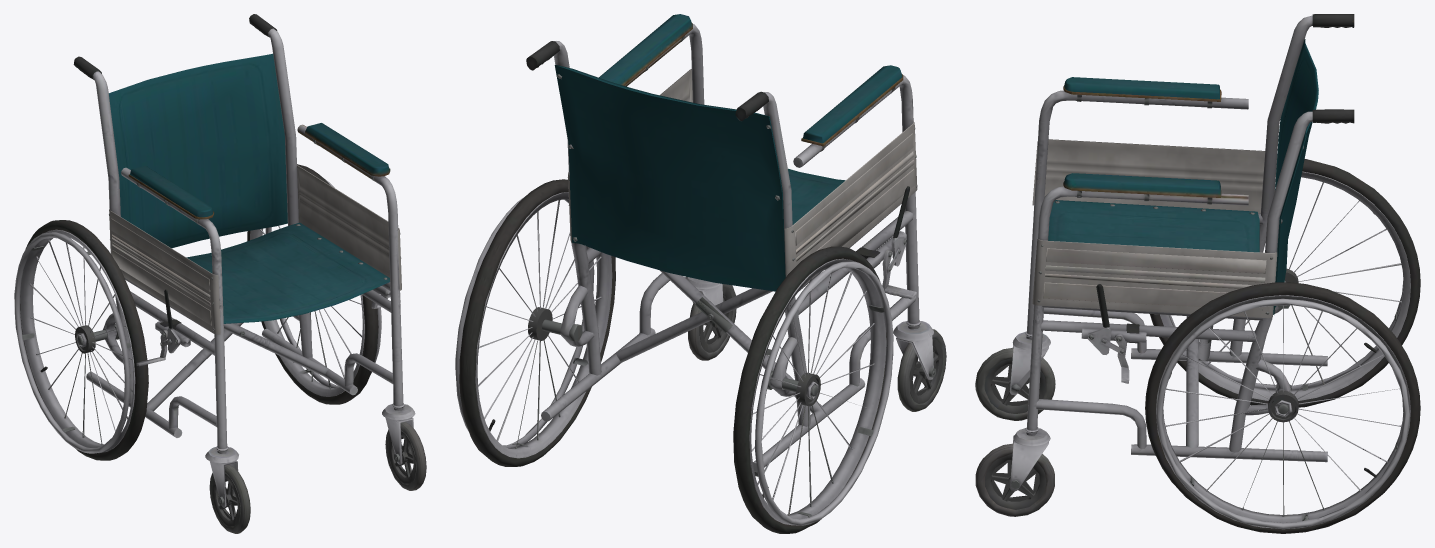
3 renders of one model, left to right at view 1: azimuth 30°, elevation 25°; view 2: azimuth 150°, elevation 25°; view 3: azimuth 270°, elevation 25°, orthographic. The views are drawn at different scales.
Parts seen in each view (by area): view 1: wheelchair_01; view 2: wheelchair_01; view 3: wheelchair_01.
Boxes of the visible parts, x1,y1,x2,y2 form: wheelchair_01: (14, 14, 426, 533); wheelchair_01: (455, 14, 946, 533); wheelchair_01: (975, 14, 1420, 533).
Size of the model in its own units: 0.8241 by 1.1 by 1.09.
1 material, 1 textured.
